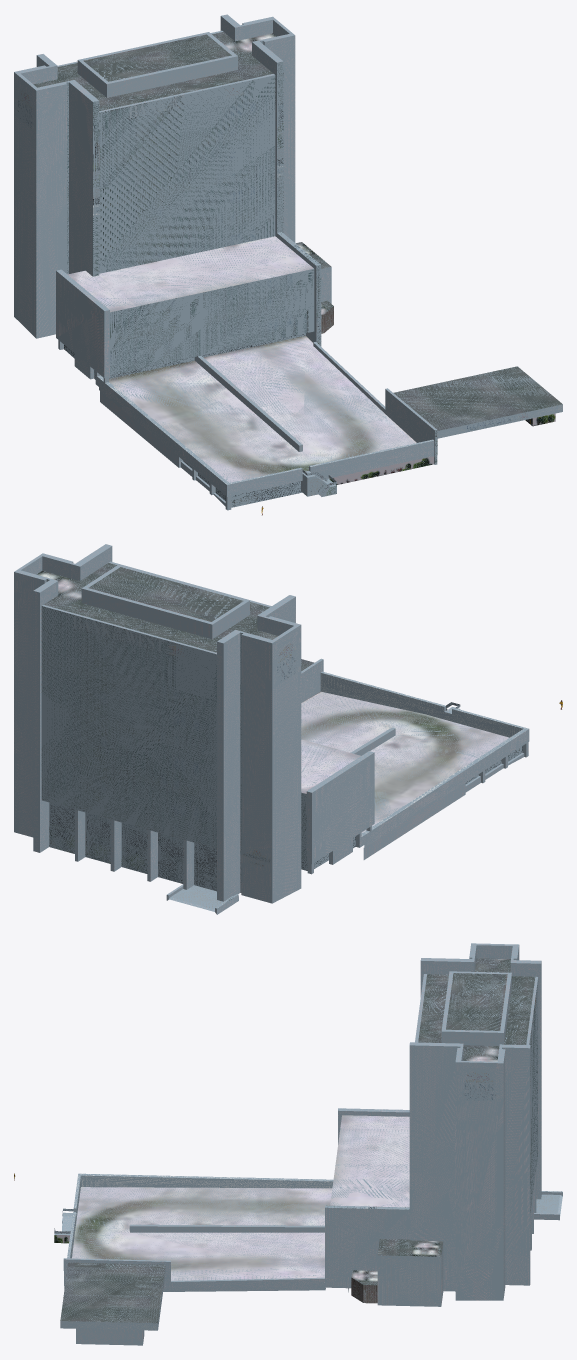
Rendered from CBD2.fbx.
The picture shows the model from 3 angles, top to bottom: view 1: azimuth 30°, elevation 25°; view 2: azimuth 150°, elevation 25°; view 3: azimuth 270°, elevation 25°; orthographic projection. The views are drawn at different scales.
Visible parts, largest first — view 1: Model; view 2: Model; view 3: Model.
Boxes of the visible parts, x1,y1,x2,y2 form: Model: (14, 14, 562, 510); Model: (14, 544, 529, 914); Model: (54, 943, 562, 1345).
Bounding box in the file's own units: 2521 × 1954 × 3724.
